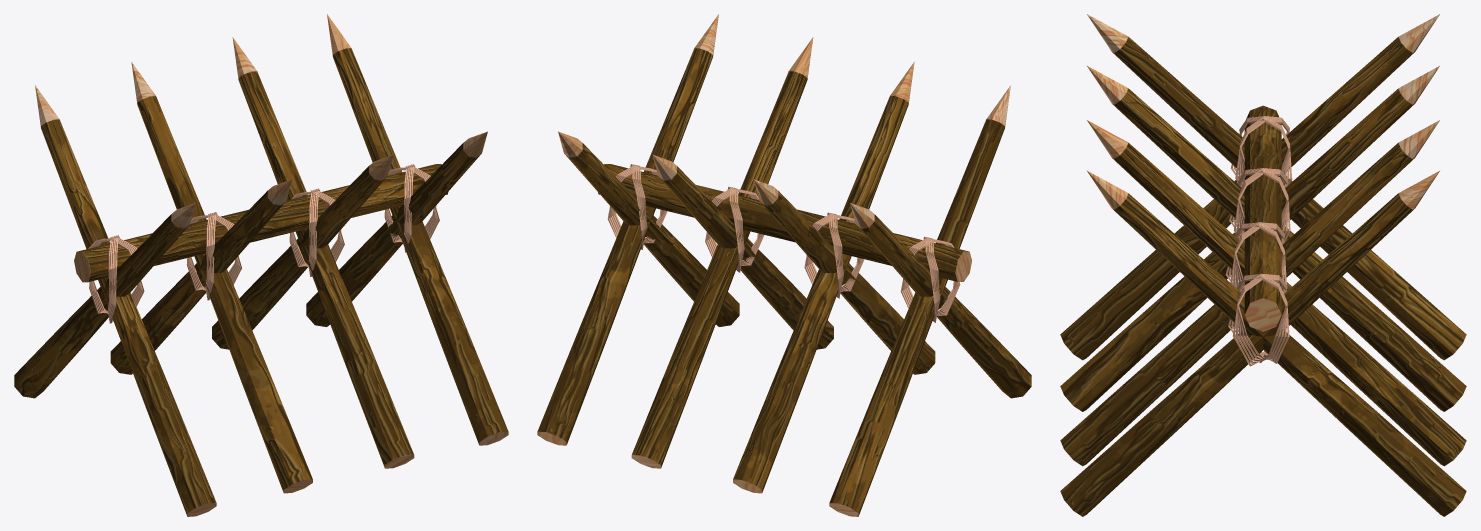
Rendered from Baricade kayu.fbx.
The picture shows the model from 3 angles, left to right: view 1: azimuth 30°, elevation 25°; view 2: azimuth 150°, elevation 25°; view 3: azimuth 270°, elevation 25°; orthographic projection. The views are drawn at different scales.
Visible parts, largest first — view 1: Cylinder.002; view 2: Cylinder.002; view 3: Cylinder.002.
Part boxes in pixels (x1,y1,x2,y2): Cylinder.002: (14,14,508,516); Cylinder.002: (537,14,1031,516); Cylinder.002: (1060,14,1466,516).
Size of the model in its own units: 147 by 123 by 131.
1 material, 1 textured.
